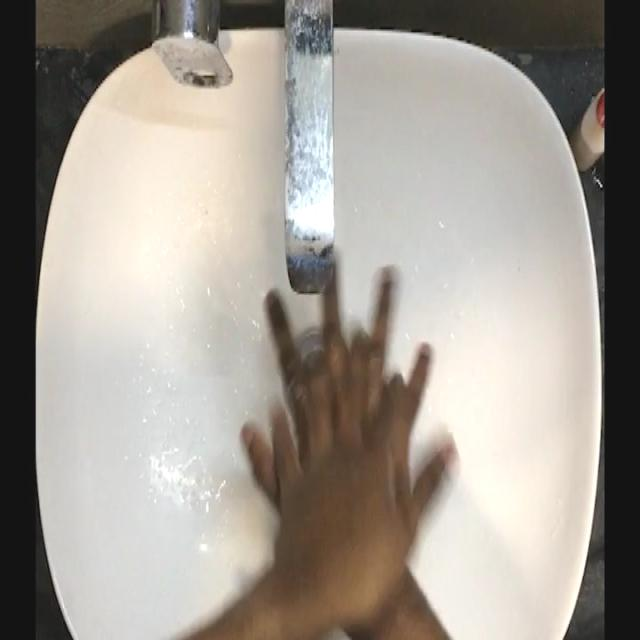step_2: (234, 250, 455, 578)
